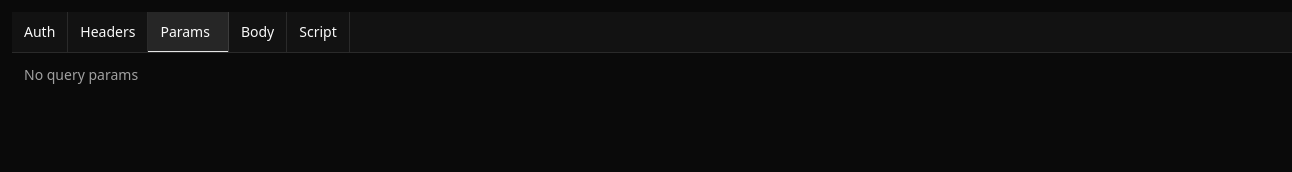
RequestPane › should render a no-authentication message when the active request auth is none
Step 1. Click the tab "Auth" → x=40, y=32, box left=12, top=12, right=68, bottom=52
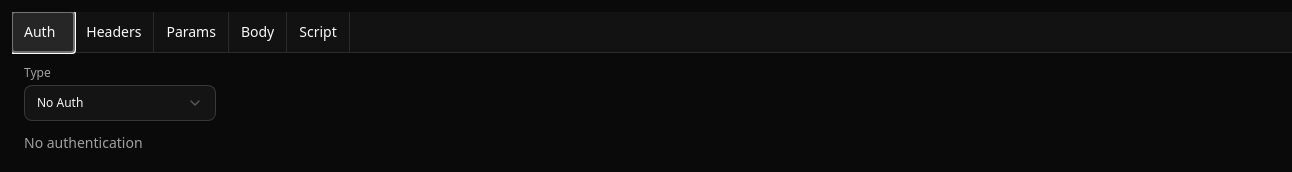
Now the text "No authentication" is shown, box left=24, top=133, right=142, bottom=152
